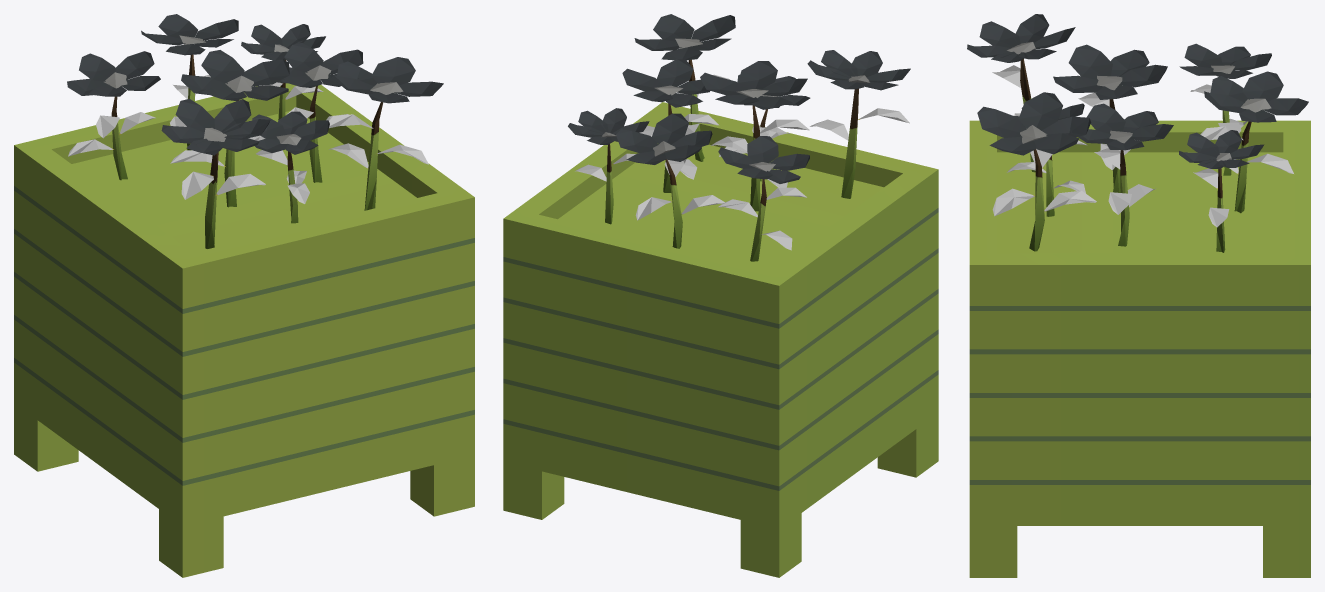
File: Pot_01.fbx
3 views of the same model, side by side, from view 1: azimuth 30°, elevation 25°; view 2: azimuth 150°, elevation 25°; view 3: azimuth 270°, elevation 25° (orthographic). The views are drawn at different scales.
Visible parts, largest first — view 1: Pot_01; view 2: Pot_01; view 3: Pot_01.
Part boxes in pixels (<box>): Pot_01: <box>14,14,474,577</box>; Pot_01: <box>503,14,938,577</box>; Pot_01: <box>967,14,1310,577</box>.
Bounding box in the file's own units: 0.5933 × 0.8313 × 0.5976.
